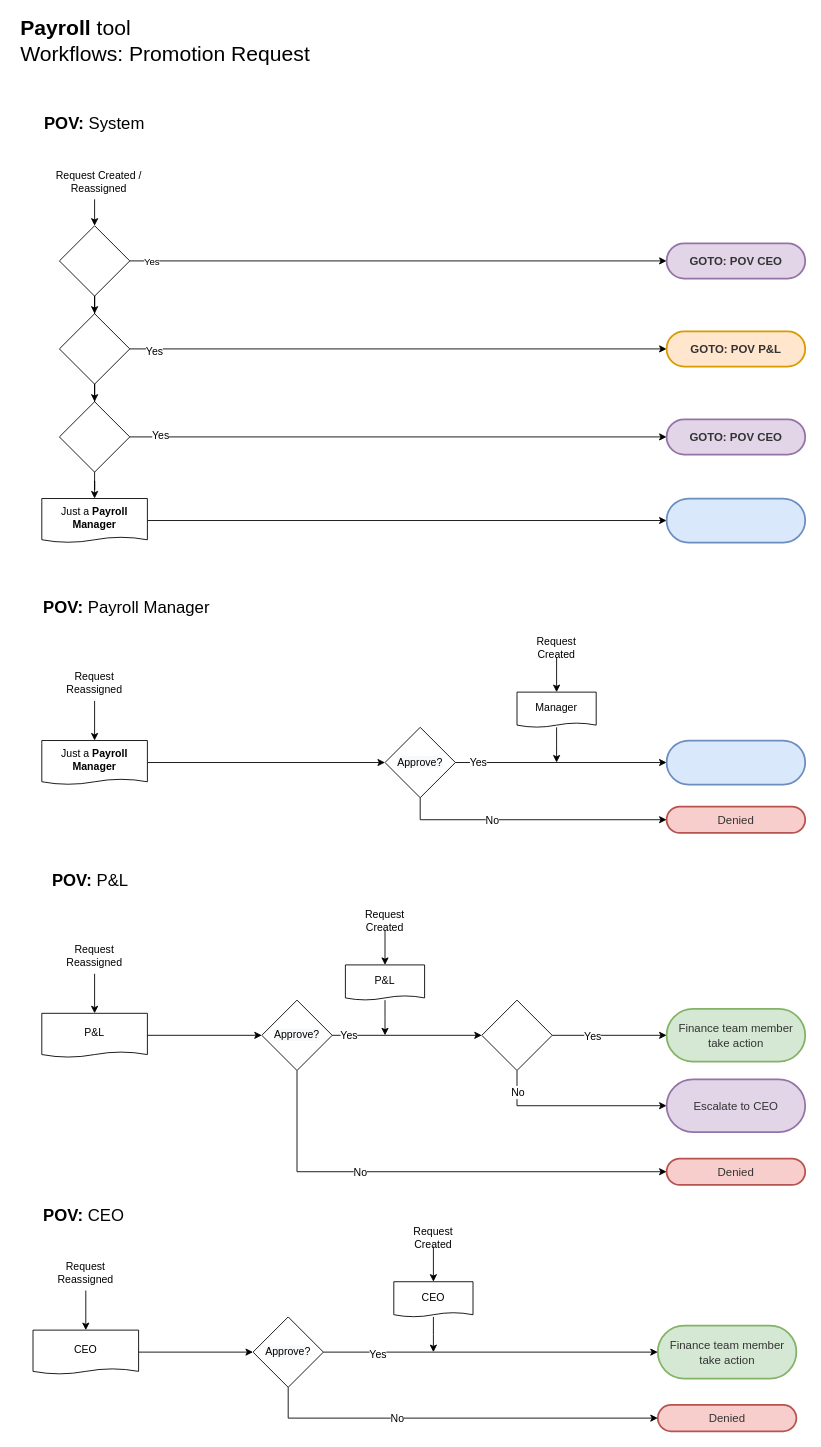
Some shapes in this 821 by 1447 pixel diagram are drawn without their labels. The shapes that lost their labels are listed below. From the top down, each one's centre as x and y in pixels, then its label:
the point at 94,260: IS CEO?
the point at 94,348: IS P&L?
the point at 94,436: Reports to CEO?
the point at 735,520: GOTO: POV Next Manager
the point at 735,762: Escalate to next manager
the point at 516,1035: IS Range Execluded?
